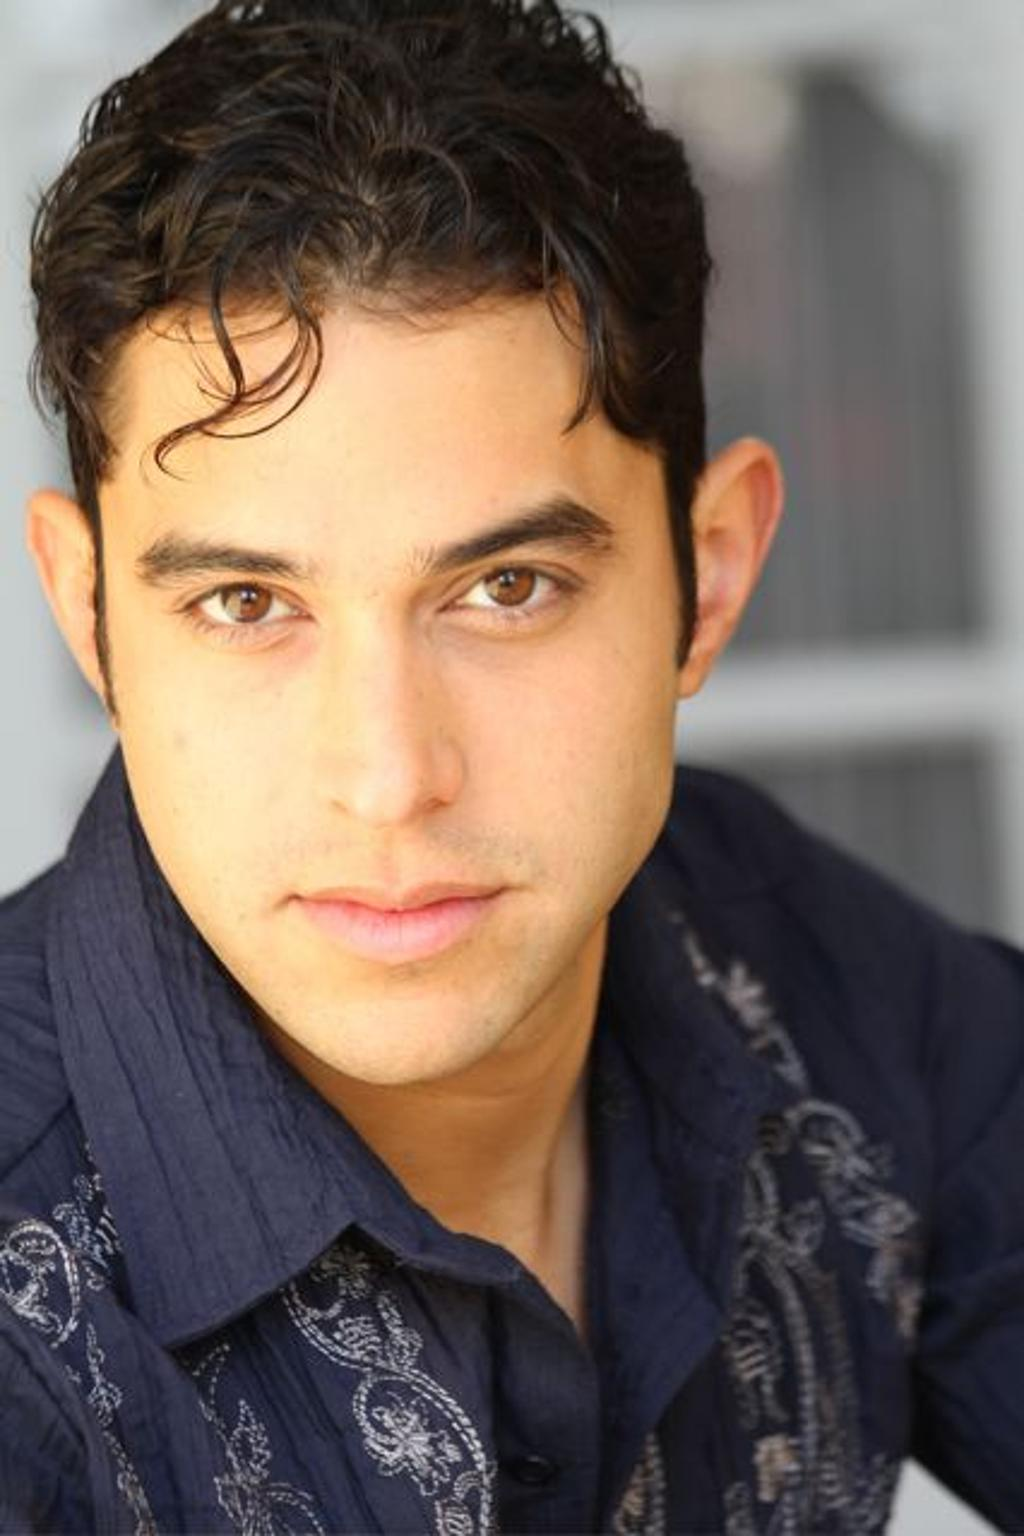face: (114, 270, 631, 1066)
